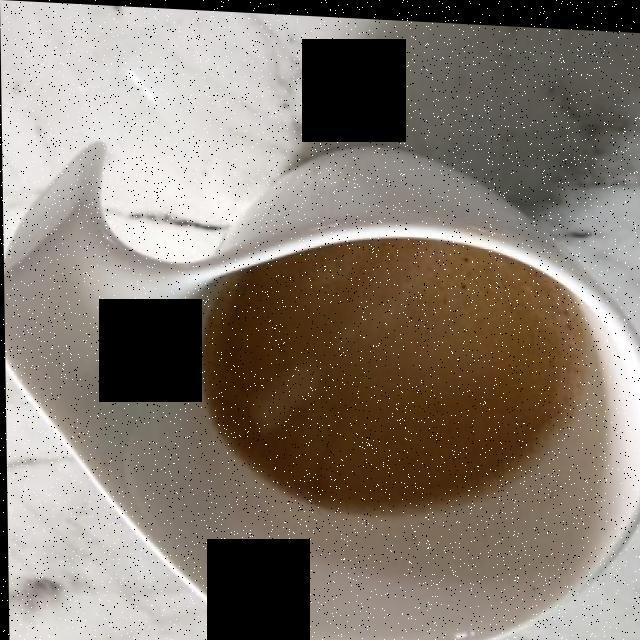espresso: (198, 242, 585, 504)
